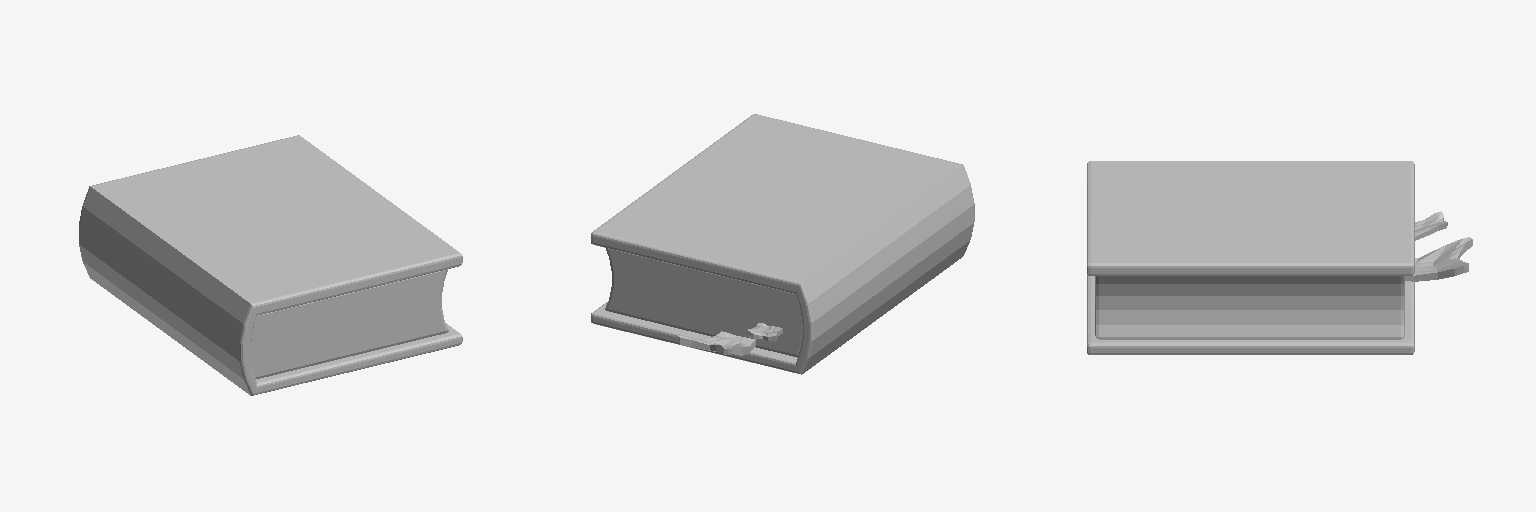
Rendered from book.obj.
The picture shows the model from 3 angles: view 1: azimuth 30°, elevation 25°; view 2: azimuth 150°, elevation 25°; view 3: azimuth 270°, elevation 25°; orthographic projection.
Parts seen in each view (by area): view 1: book; view 2: book; view 3: book.
Boxes of the visible parts, <box> form: book: <box>79,135,462,395</box>; book: <box>591,114,974,374</box>; book: <box>1087,161,1472,354</box>.
Bounding box in the file's own units: 0.9199 × 0.3638 × 1.38.